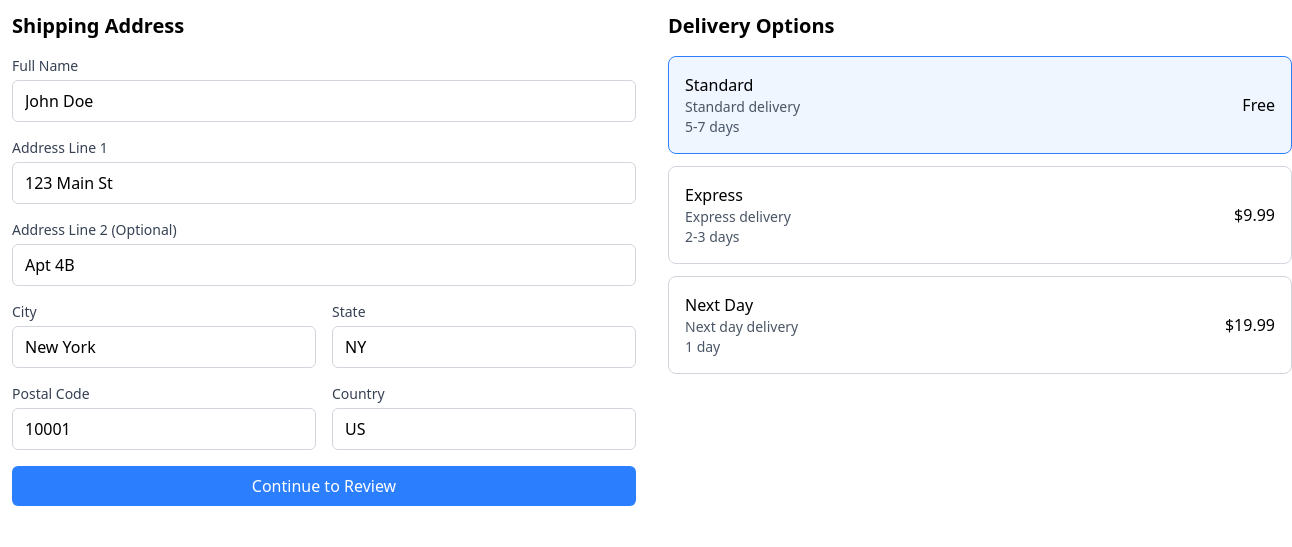
Test: CheckoutDelivery › validates required fields
Clear required field
Clear the field labelled "Full Name" at (324, 101), box [12,80,636,122]
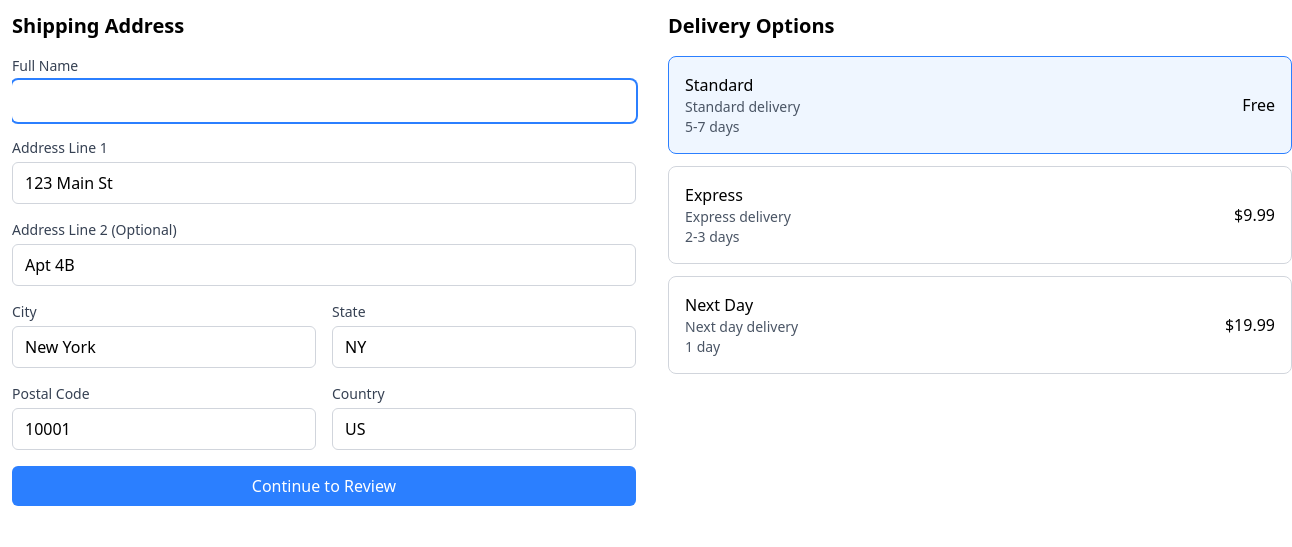
Click the button "Continue to Review" at (324, 486), box [12,466,636,506]
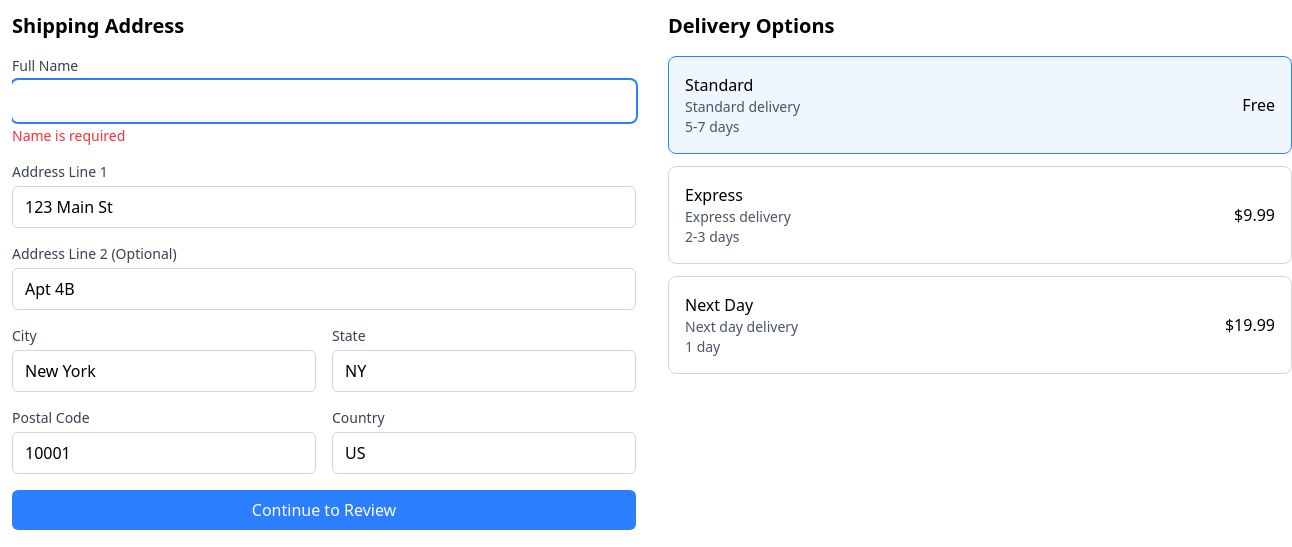
Check: the text "Name is required" is shown, box [12,126,125,145]
